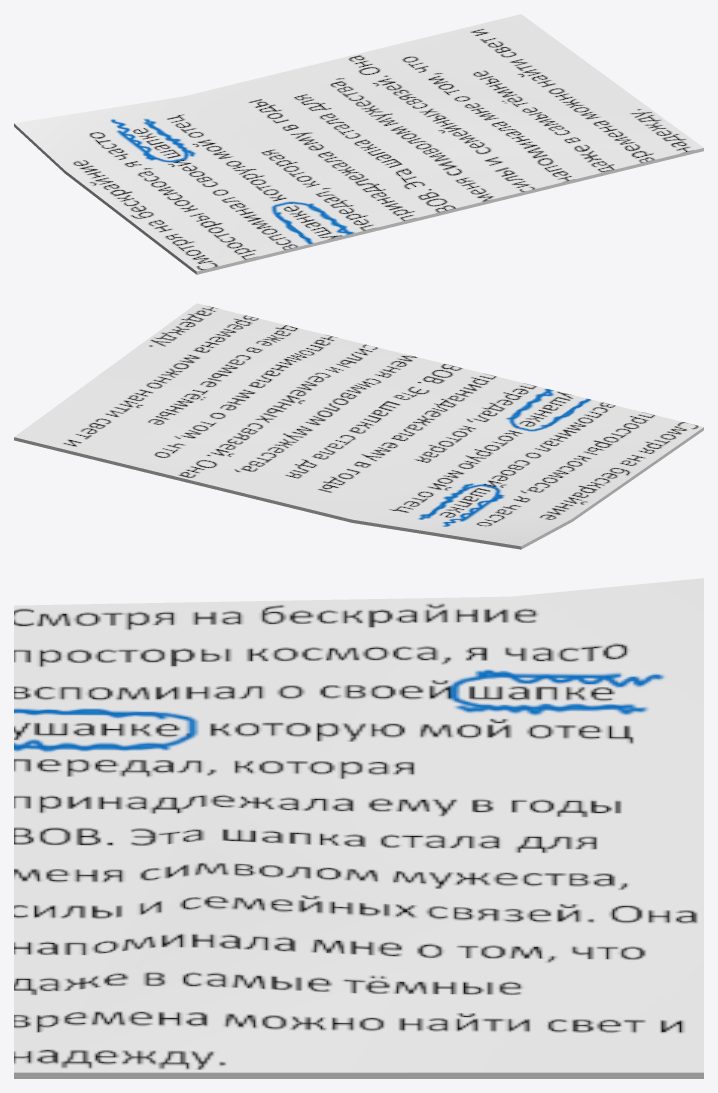
The model's file is RS_note_2.fbx.
3 views of the same model, one above another, from view 1: azimuth 30°, elevation 25°; view 2: azimuth 150°, elevation 25°; view 3: azimuth 270°, elevation 25° (orthographic). The views are drawn at different scales.
Parts seen in each view (by area): view 1: note_2; view 2: note_2; view 3: note_2.
Boxes of the visible parts, x1,y1,x2,y2 form: note_2: [14, 14, 703, 274]; note_2: [14, 303, 703, 549]; note_2: [14, 578, 703, 1078].
Size of the model in its own units: 28.07 by 0.9407 by 17.52.
